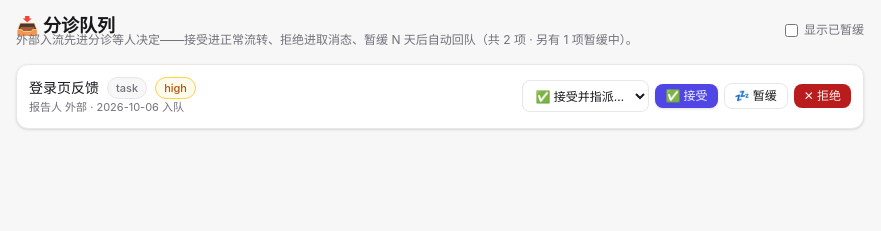
it: TriagePage（M117） › 接受动作调 triageItem 并在失效后重取
Click the button "✅ 接受": (686, 96) [655,84,718,108]
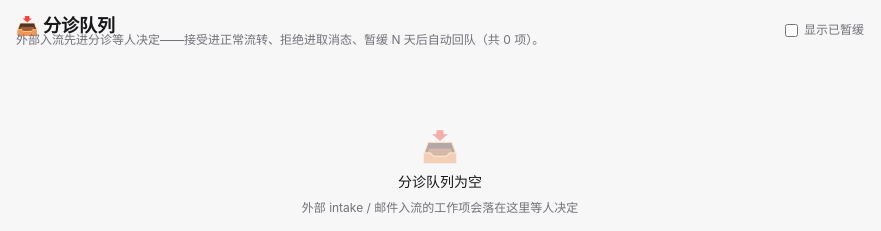
Check: the text "分诊队列为空" is shown, box [398,172,482,192]
